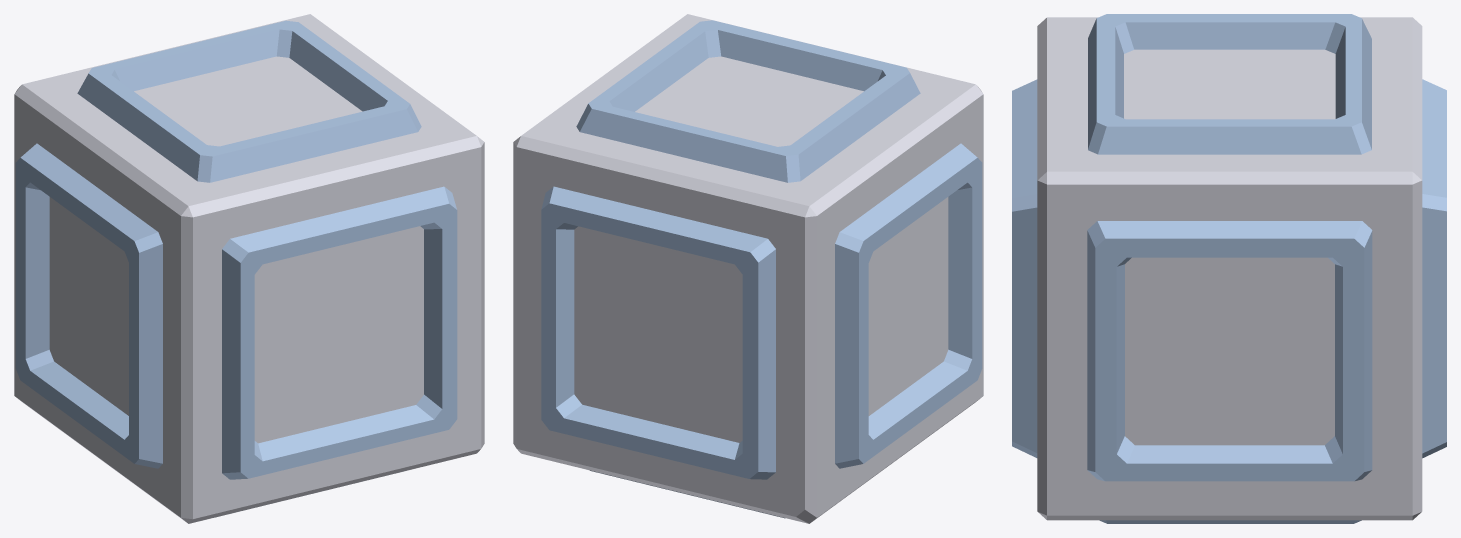
Rendered from UndergroundWallBox.fbx.
3 renders of one model, left to right at view 1: azimuth 30°, elevation 25°; view 2: azimuth 150°, elevation 25°; view 3: azimuth 270°, elevation 25°, orthographic. The views are drawn at different scales.
Parts seen in each view (by area): view 1: underground wall.017; view 2: underground wall.017; view 3: underground wall.017.
Part boxes in pixels (<box>): underground wall.017: <box>14,14,484,523</box>; underground wall.017: <box>513,14,983,523</box>; underground wall.017: <box>1012,14,1446,523</box>.
Bounding box in the file's own units: 226 × 228 × 226.
